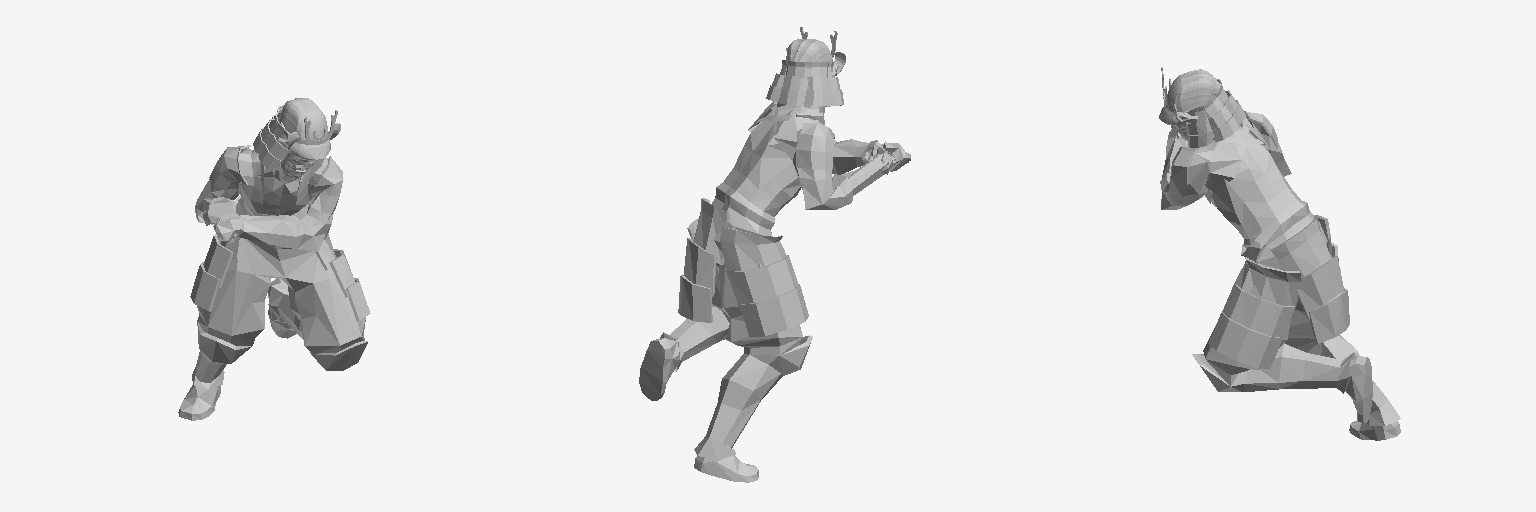
The model's file is Samurai_Run-bl.obj.
The picture shows the model from 3 angles: view 1: azimuth 30°, elevation 25°; view 2: azimuth 150°, elevation 25°; view 3: azimuth 270°, elevation 25°; orthographic projection.
Parts seen in each view (by area): view 1: Samurai.001; view 2: Samurai.001; view 3: Samurai.001.
Boxes of the visible parts, x1,y1,x2,y2 form: Samurai.001: [178, 98, 370, 420]; Samurai.001: [639, 27, 910, 482]; Samurai.001: [1159, 67, 1400, 440].
Bounding box in the file's own units: 3.6 × 6.97 × 4.15.